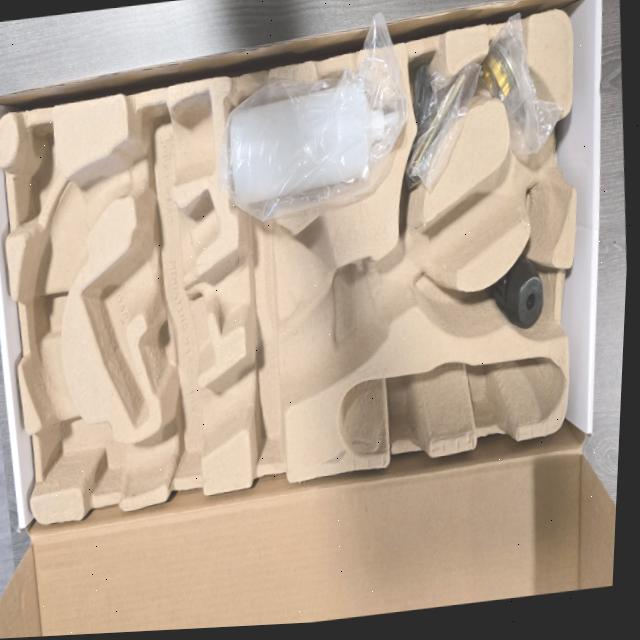1m: (16, 91, 574, 491)
2m: (80, 186, 219, 427)
3: (230, 74, 405, 204)
4m: (339, 358, 564, 461)
5: (493, 259, 543, 329)
6: (480, 11, 564, 152)
7: (407, 59, 479, 200)
